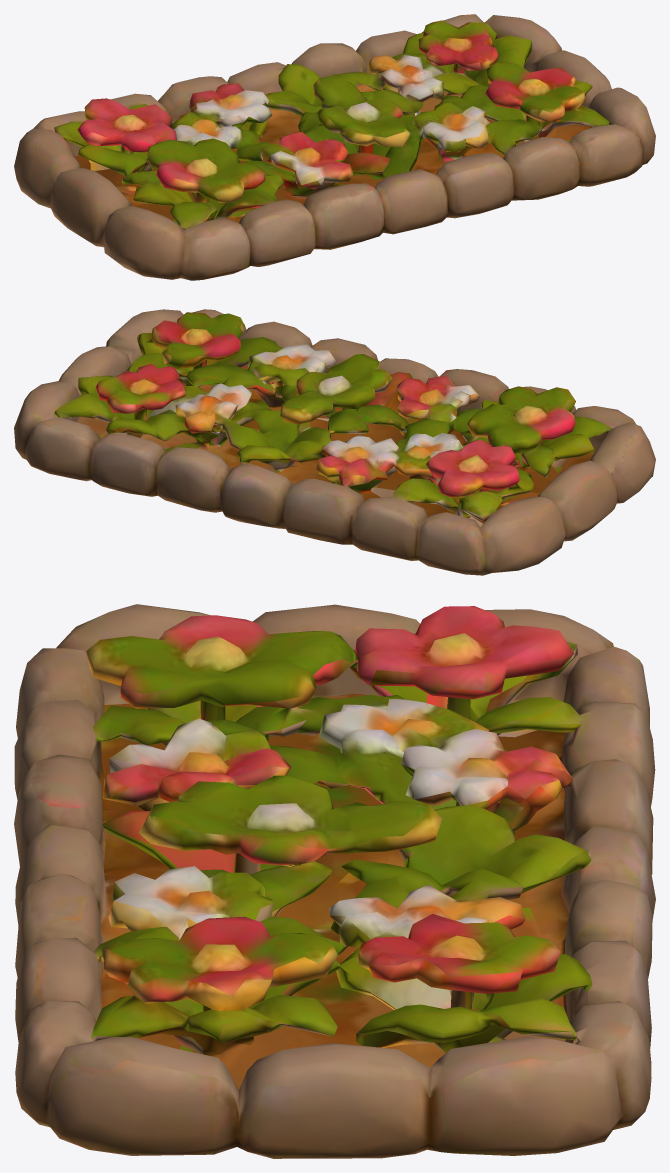
The model's file is flower_bed_long.glb.
3 renders of one model, top to bottom at view 1: azimuth 30°, elevation 25°; view 2: azimuth 150°, elevation 25°; view 3: azimuth 270°, elevation 25°, orthographic. The views are drawn at different scales.
Visible parts, largest first — view 1: textured_mesh.obj; view 2: textured_mesh.obj; view 3: textured_mesh.obj.
Boxes of the visible parts, box(x1,y1,x2,y2) form: textured_mesh.obj: box(14, 14, 655, 280); textured_mesh.obj: box(14, 309, 655, 575); textured_mesh.obj: box(14, 604, 655, 1158).
Size of what is drawn, in the model's own units: 2.2 by 0.2933 by 1.25.
Materials: 1 (1 with a texture image).
